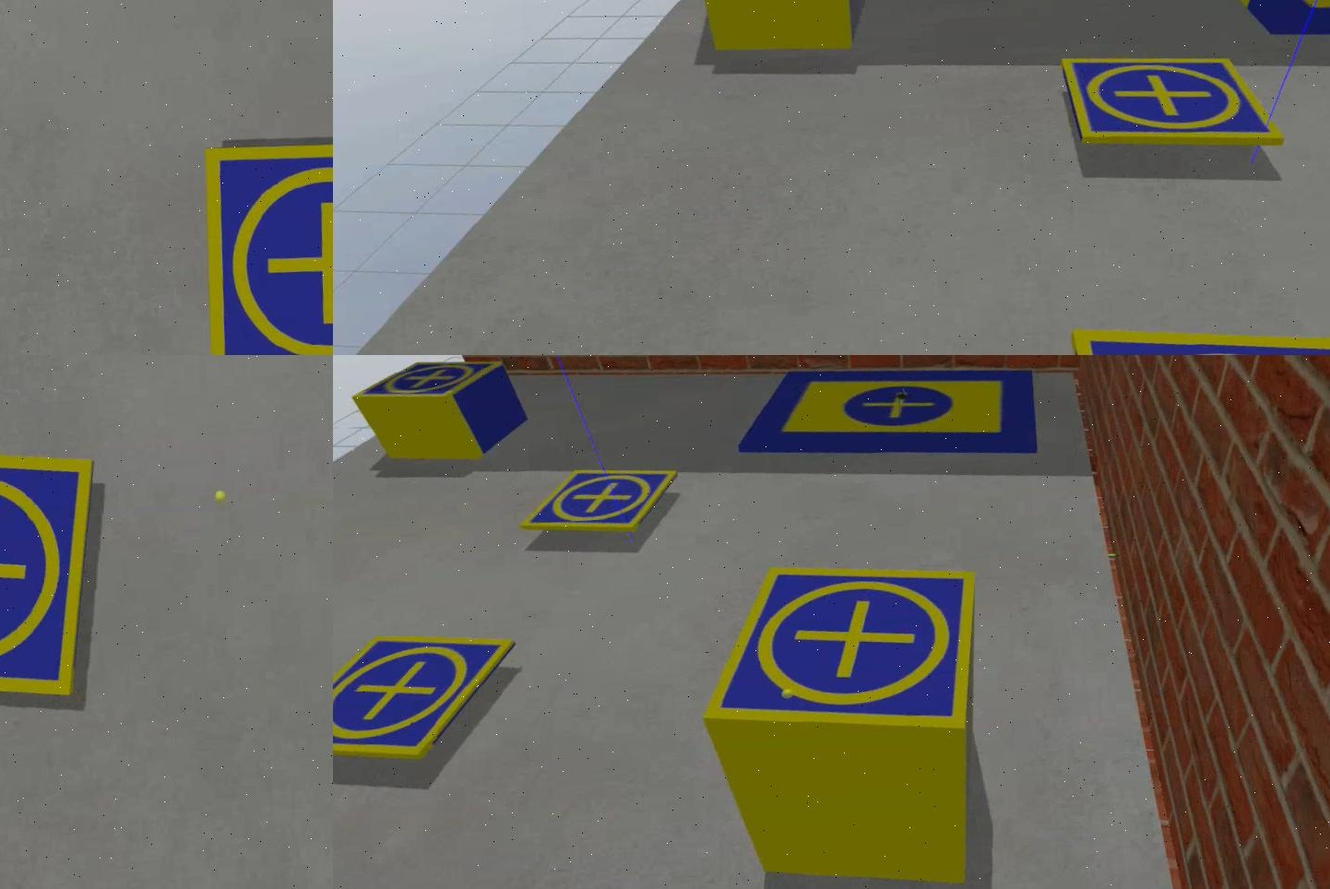large_base: (725, 360, 1038, 465), (1190, 1, 1328, 42)
small_base: (695, 558, 982, 742), (197, 137, 332, 356), (0, 441, 107, 712), (332, 631, 520, 765), (1059, 41, 1279, 152), (519, 465, 677, 539), (349, 356, 505, 409)
